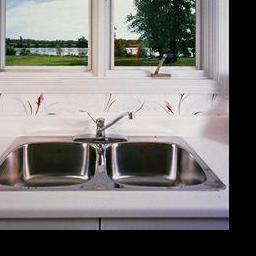Lavaplatos: (0, 109, 219, 194)
